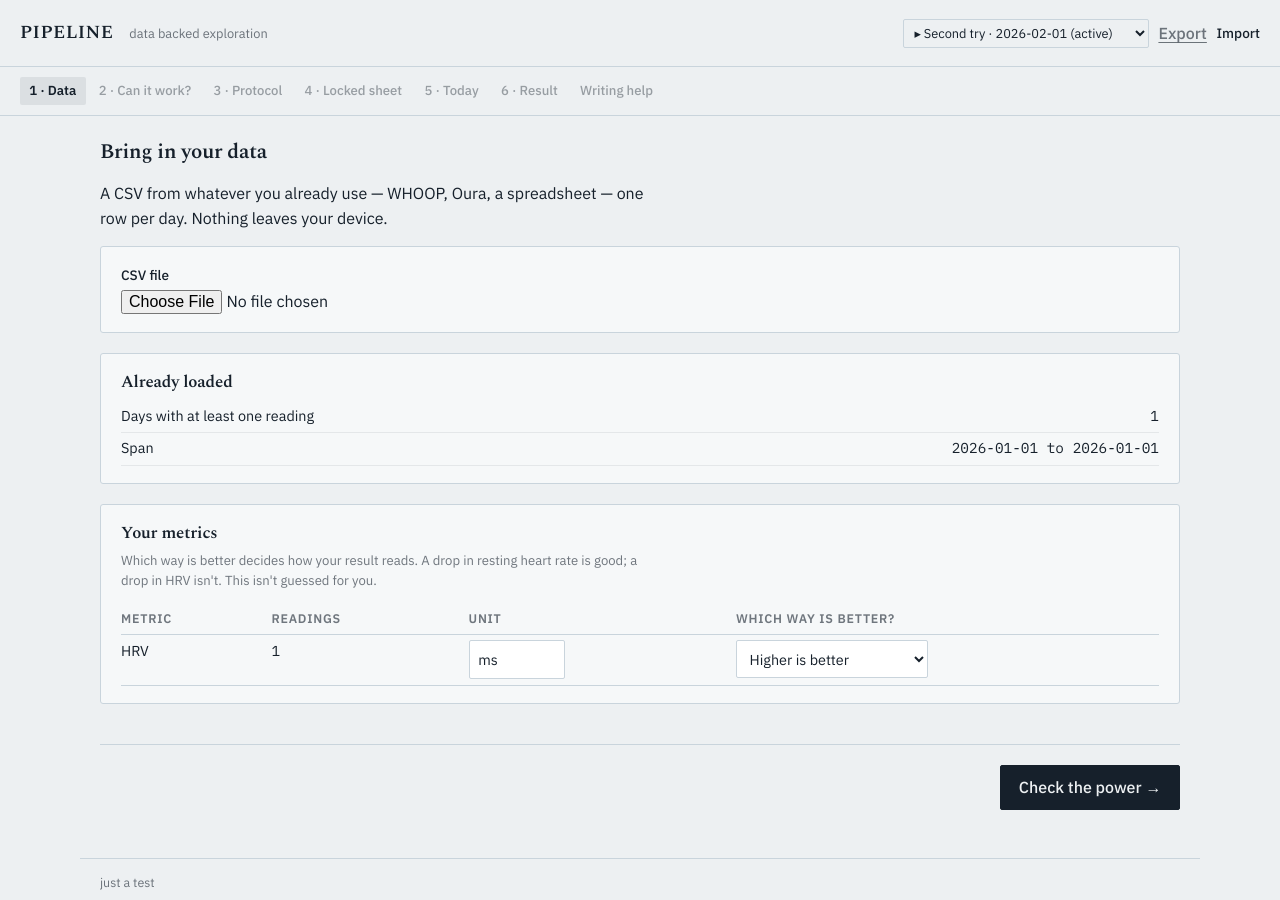
Scenario: protocol history › opens an older protocol and says it is not the current one
The width and height of the screenshot is (1280, 900).
Step 1. Select "First try · 2026-01-01" in the dropdown named "Your protocols" → [1026, 33], box [903,19,1149,48]
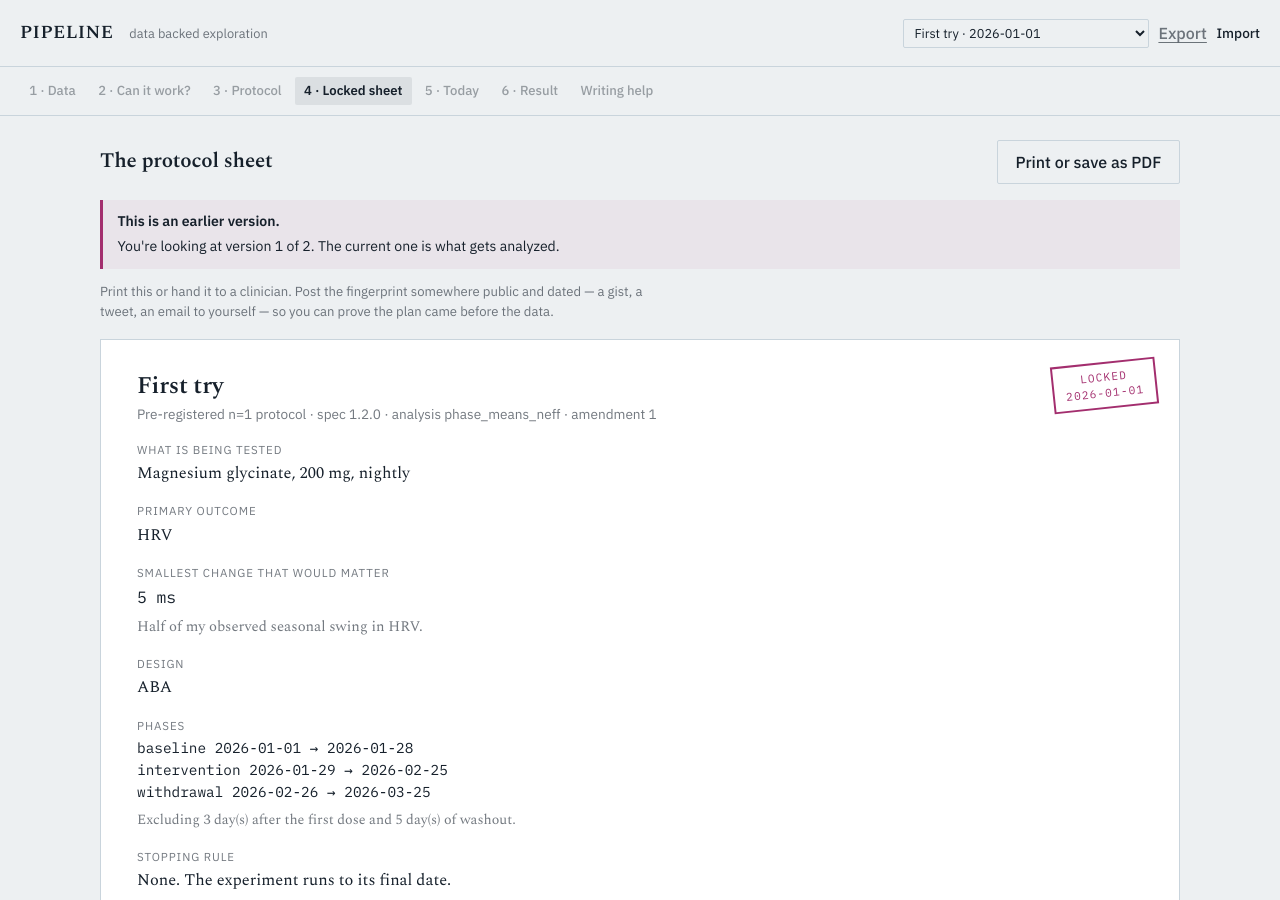
Expected: the text "This is an earlier version." is shown, [117,212,280,230]
Expected: the heading "First try" is shown, [137,368,223,404]
